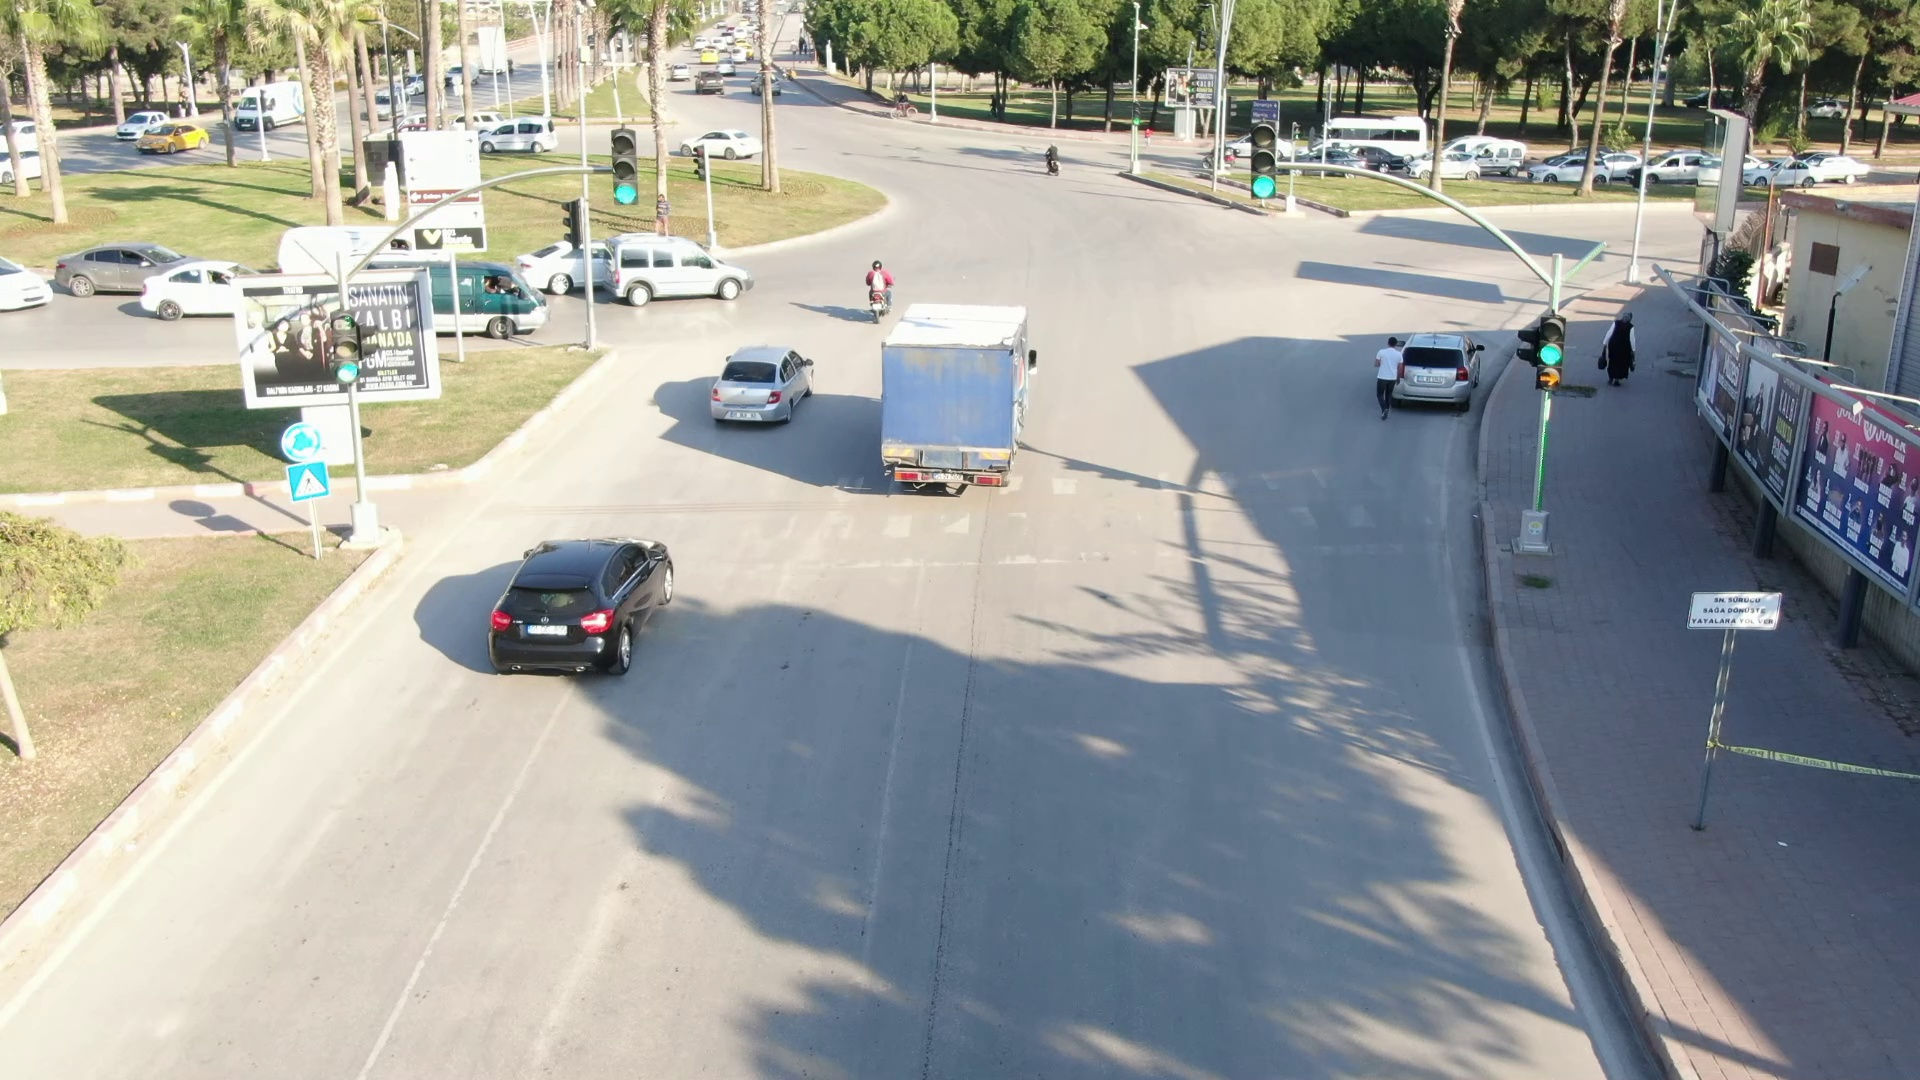car: (466, 511, 698, 697), (28, 213, 194, 306), (420, 249, 552, 341), (688, 332, 817, 427), (602, 229, 760, 303), (92, 90, 219, 156), (476, 102, 566, 158), (674, 120, 772, 166), (1517, 149, 1612, 189)
person: (1584, 302, 1647, 390), (1368, 323, 1405, 423)
